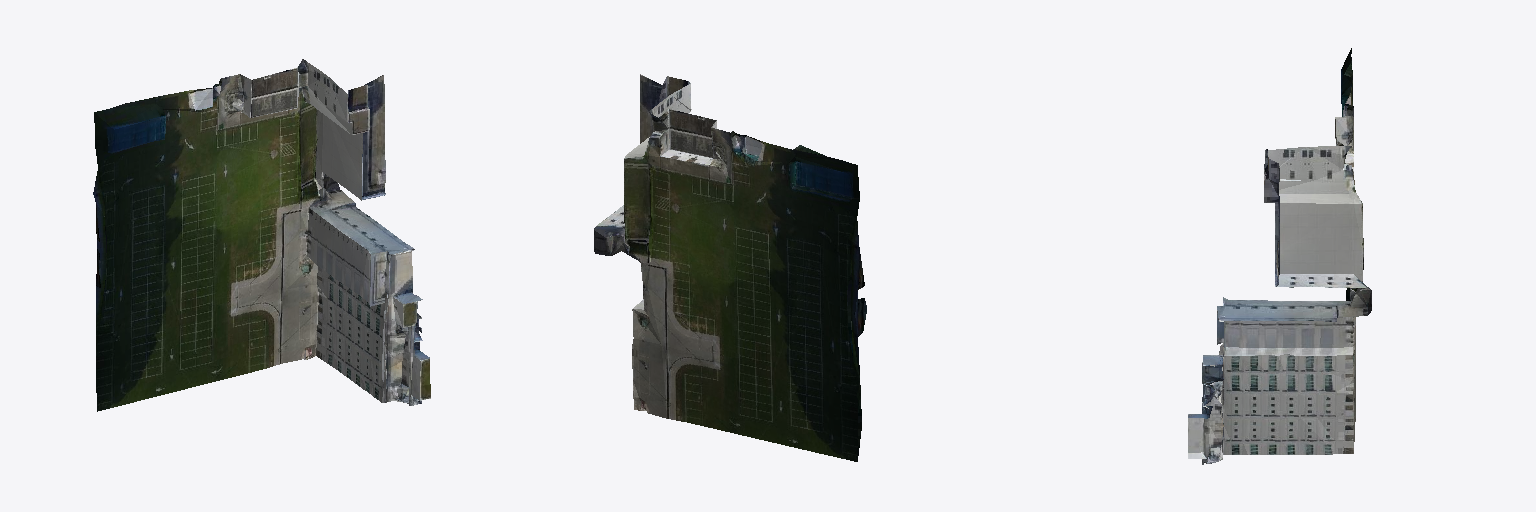
3 views of the same model, side by side, from view 1: azimuth 30°, elevation 25°; view 2: azimuth 150°, elevation 25°; view 3: azimuth 270°, elevation 25° (orthographic).
Visible parts, largest first — view 1: obj_0; view 2: obj_0; view 3: obj_0.
Boxes of the visible parts, <box> form: obj_0: <box>93,59,430,411</box>; obj_0: <box>594,74,866,461</box>; obj_0: <box>1188,48,1371,464</box>.
Bounding box in the file's own units: 80.3 × 90.15 × 50.1.
1 materials, 1 textured.